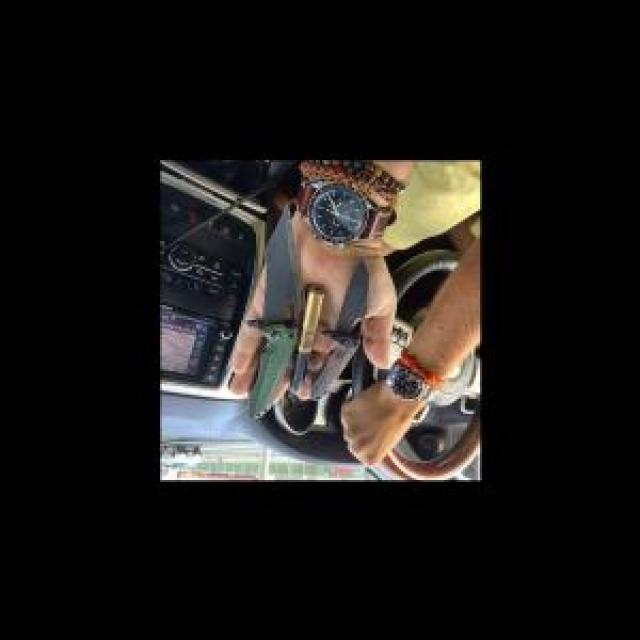knife: (250, 205, 303, 429), (305, 258, 373, 408)
